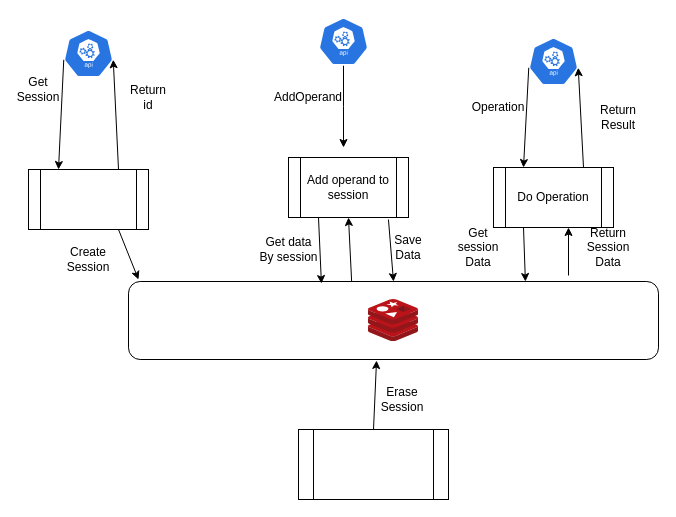
Some shapes in this 676 by 517 pixel diagram are drawn without their labels. Here are the shapes that lost their labels. From the top down, the centre of each, then its label:
pixel 88 199: Generate Session Id
pixel 373 464: Every 5 evaluate wheather a session havent accessed to erase it
